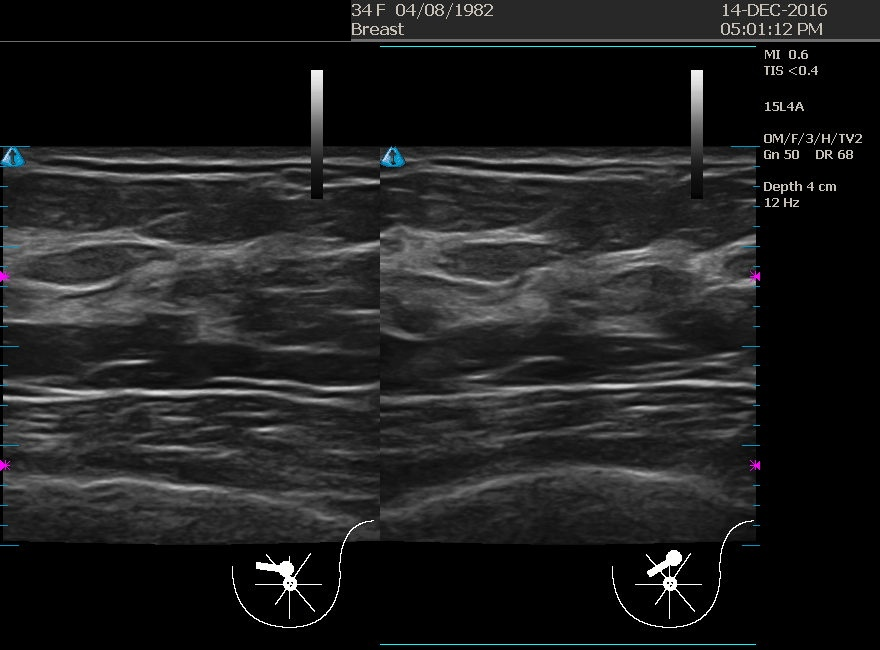Benign: (21, 170, 221, 370), (409, 153, 609, 353)
